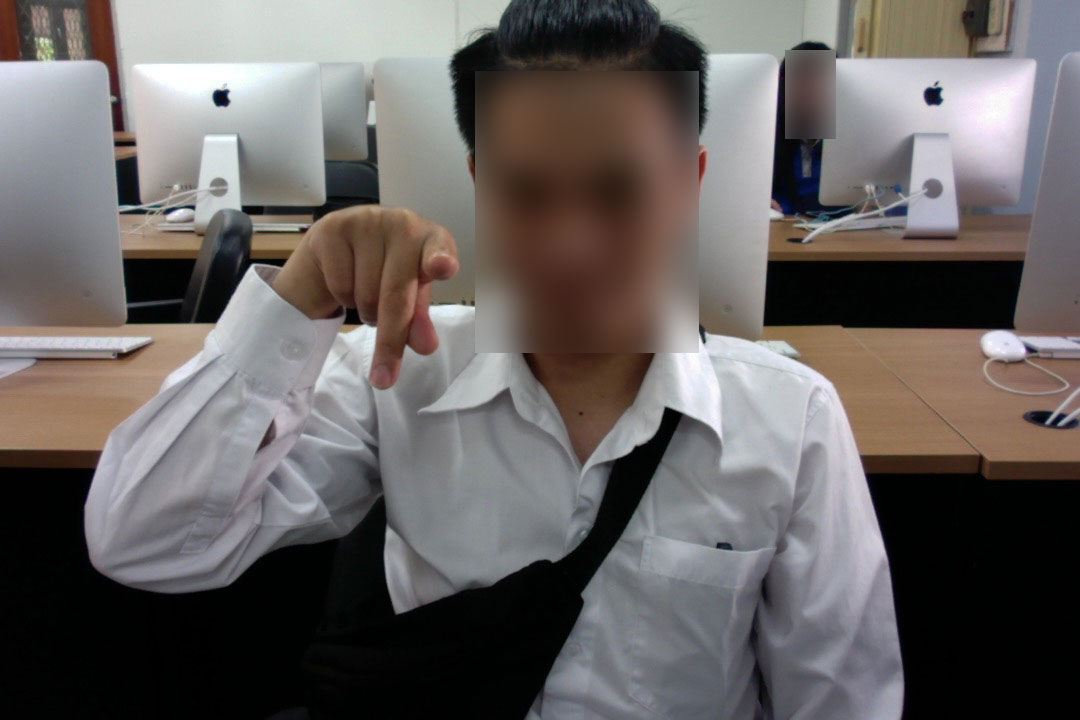por: (305, 192, 466, 393)
